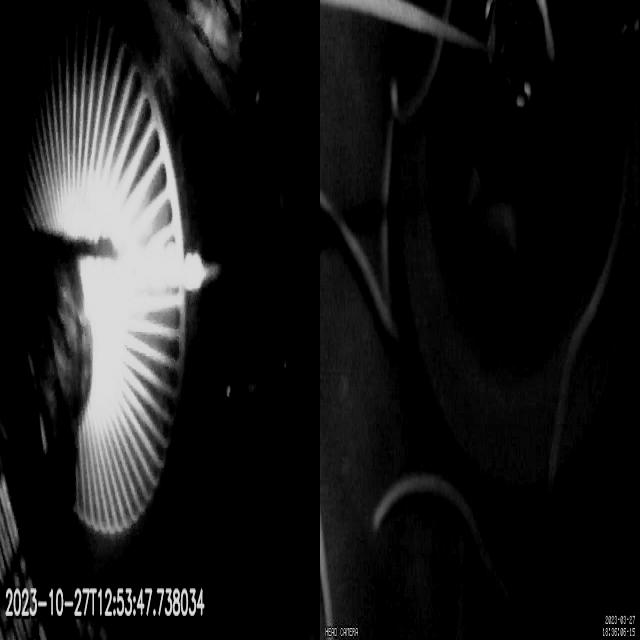white-dots: (152, 246, 205, 295)
